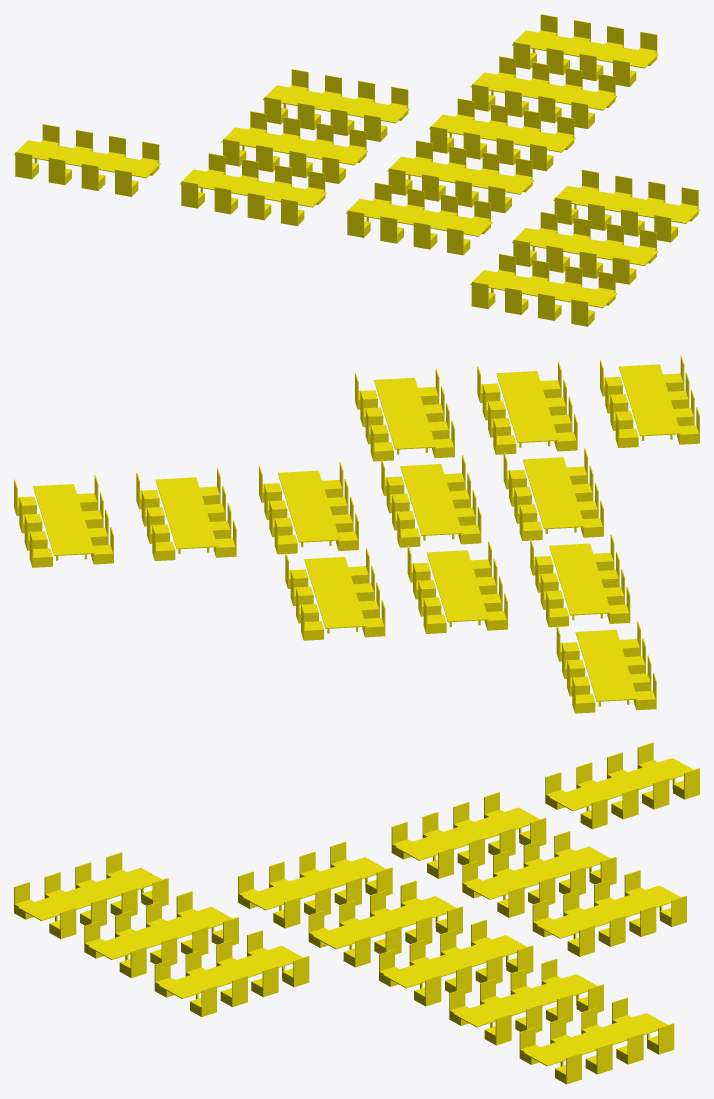
File: boxes-2.gltf
The picture shows the model from 3 angles, top to bottom: view 1: azimuth 30°, elevation 25°; view 2: azimuth 150°, elevation 25°; view 3: azimuth 270°, elevation 25°; orthographic projection. The views are drawn at different scales.
Parts seen in each view (by area): view 1: no_transformations; view 2: no_transformations; view 3: no_transformations.
Boxes of the visible parts, x1,y1,x2,y2 form: no_transformations: (14,14,699,326); no_transformations: (14,355,699,713); no_transformations: (14,742,699,1084).
Size of the model in its own units: 38.64 by 1.5 by 35.48.
